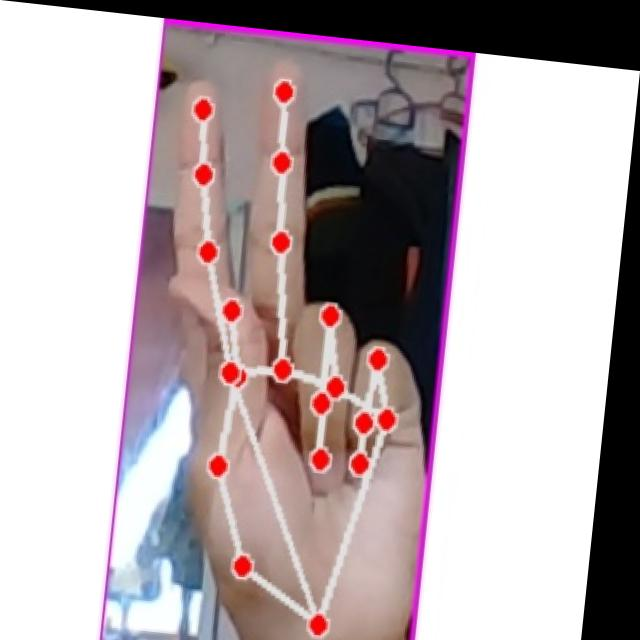K: (132, 49, 459, 640)
